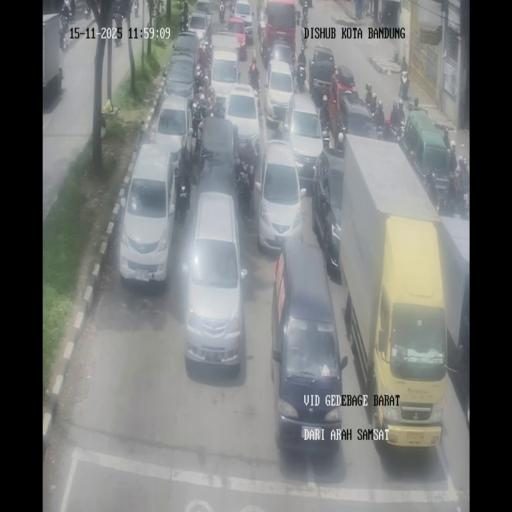3: (337, 140, 458, 446), (42, 14, 62, 102)
car: (271, 238, 343, 452), (183, 192, 248, 369), (118, 144, 178, 286), (400, 109, 451, 207), (312, 149, 342, 279), (284, 92, 324, 186), (194, 113, 238, 189), (153, 94, 193, 172), (208, 46, 242, 114), (264, 59, 297, 129), (337, 93, 376, 143), (164, 52, 198, 108), (308, 45, 336, 103), (225, 16, 249, 56), (186, 12, 210, 44)
truck: (235, 158, 255, 213), (174, 171, 190, 221), (390, 96, 412, 128), (436, 182, 454, 216), (248, 72, 262, 110), (380, 118, 402, 142), (191, 103, 204, 139), (193, 64, 207, 96), (198, 38, 212, 70), (113, 10, 124, 46), (295, 60, 307, 92), (259, 27, 269, 65), (60, 0, 75, 25), (458, 190, 470, 220), (320, 121, 331, 150), (399, 74, 410, 100), (180, 11, 190, 33), (60, 27, 68, 51), (218, 0, 226, 22), (153, 0, 164, 16), (300, 22, 308, 43), (258, 1, 266, 22), (84, 0, 92, 20), (302, 4, 309, 24), (127, 0, 133, 20), (295, 6, 301, 24), (120, 2, 126, 20), (134, 0, 139, 17), (229, 0, 235, 13), (378, 10, 383, 23)
